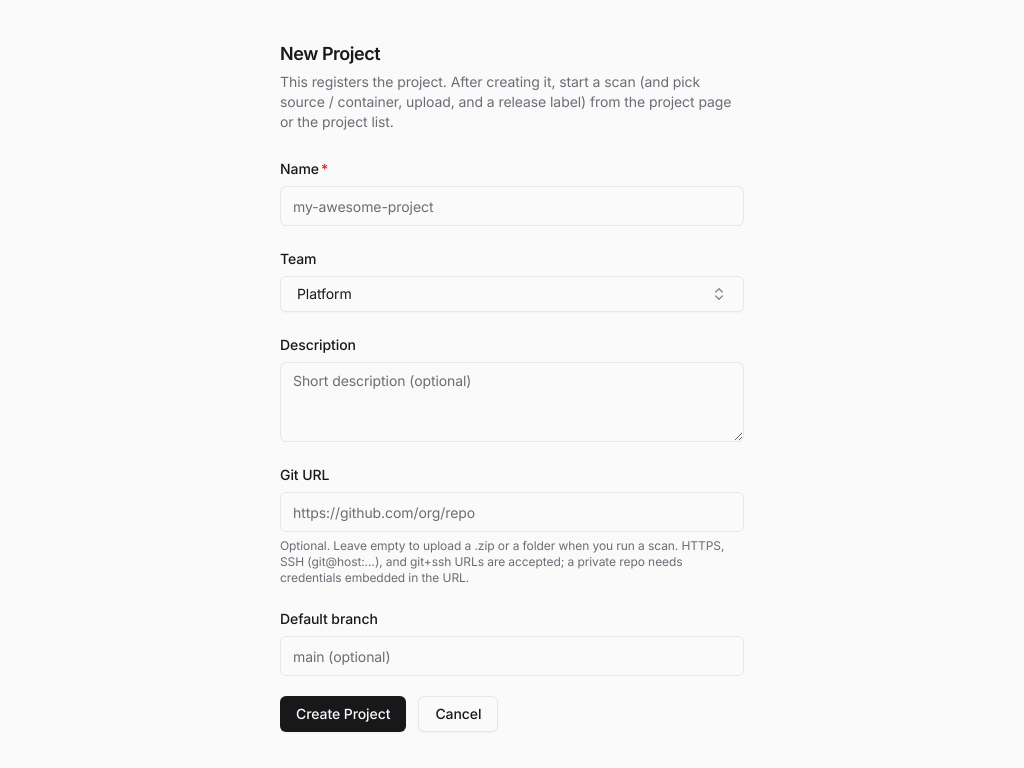
Test: switching teams while the create form is open › still lets the form override the bar
The image size is (1024, 768).
What coordinates should you click on to do the following:
click the dropdown with test id "project-team-combobox-trigger"
I would click on:
 (324, 294)
Its box is [280, 276, 744, 312].
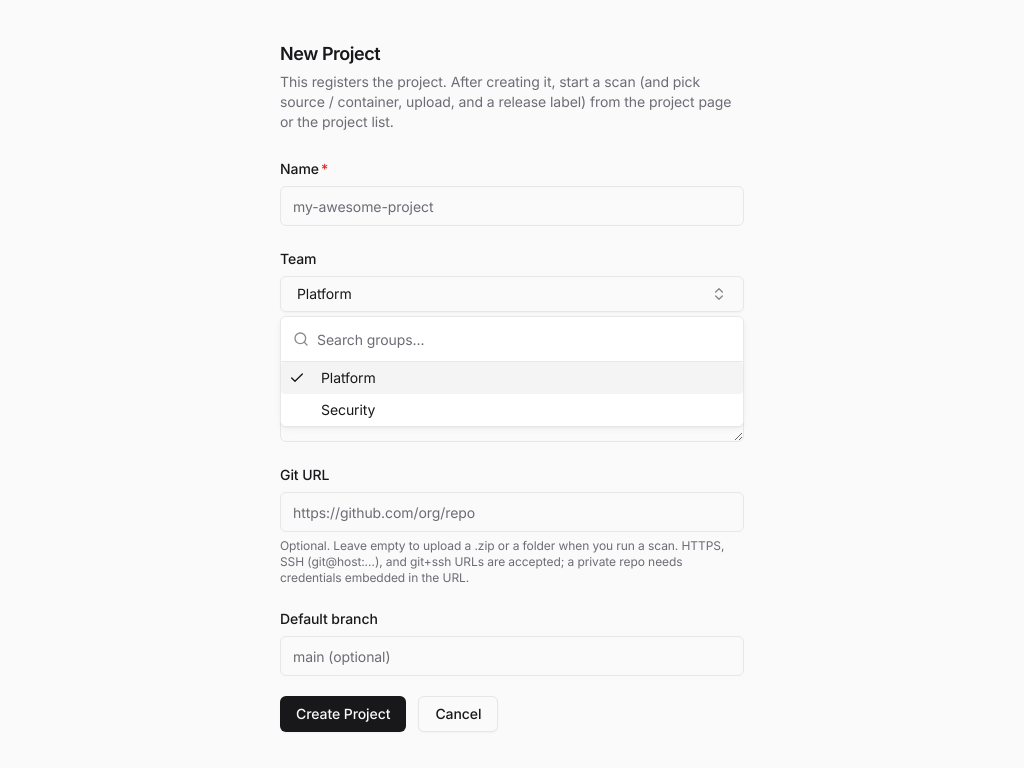
What coordinates should you click on to do the following:
click the option with test id "project-team-combobox-option"
I would click on:
 (348, 410)
Its box is [321, 401, 375, 418].
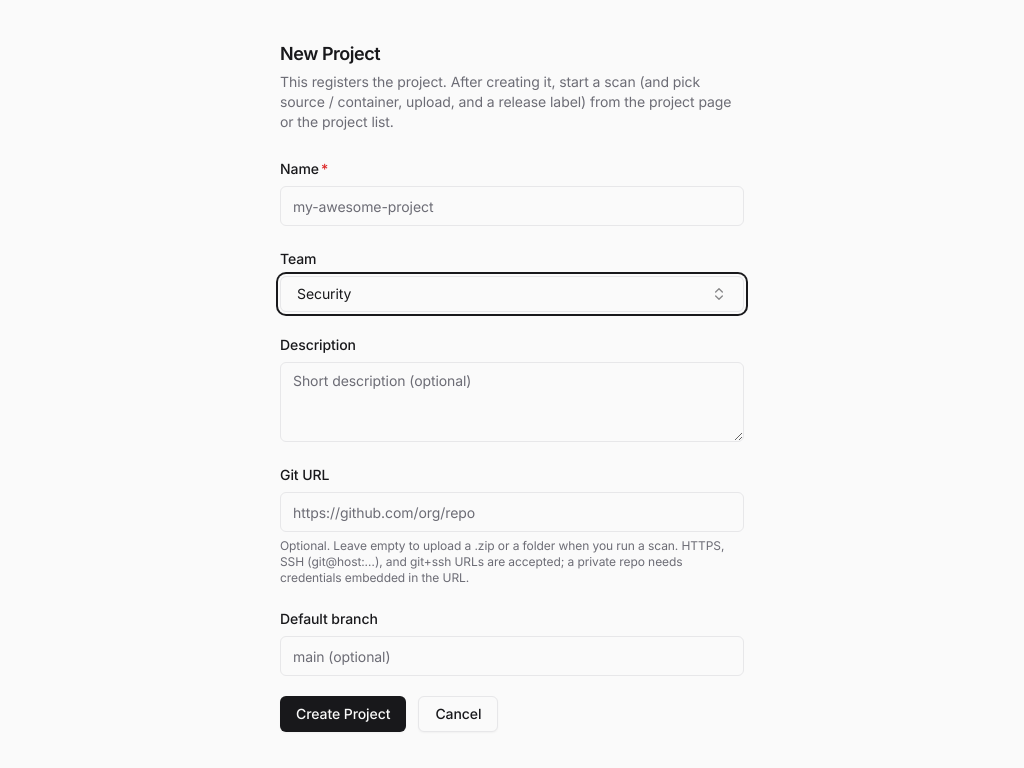
Check: the dropdown with test id "project-team-combobox-trigger" reads "Security", box [280, 276, 744, 312]
